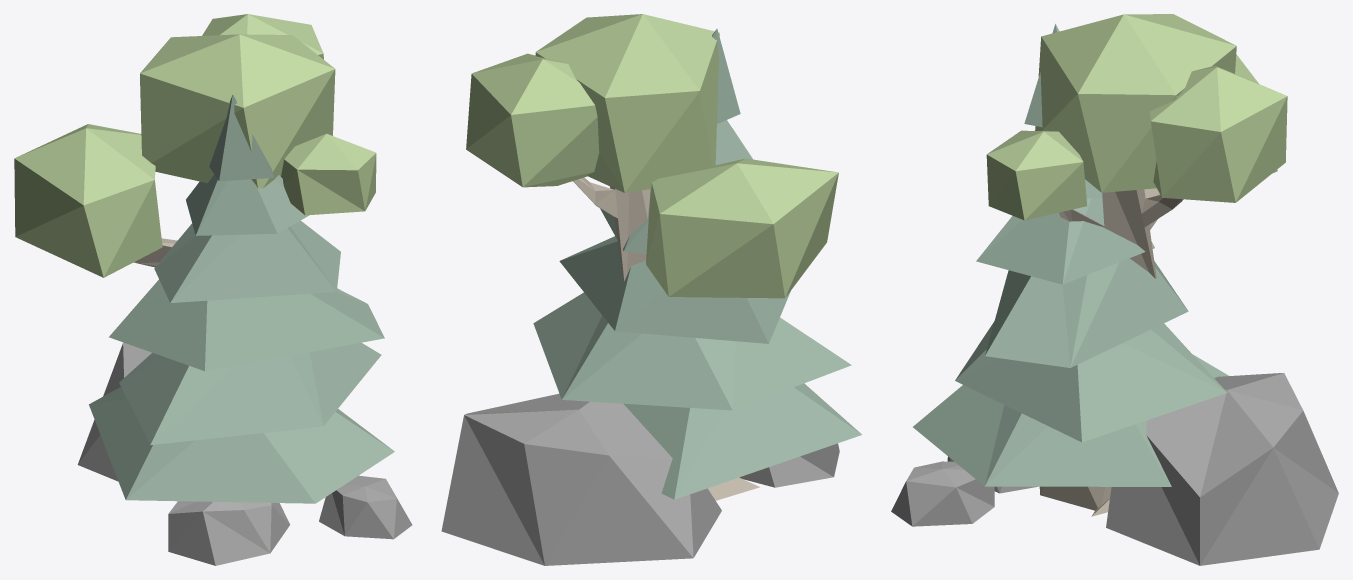
File: trees.dae
3 views of the same model, side by side, from view 1: azimuth 30°, elevation 25°; view 2: azimuth 150°, elevation 25°; view 3: azimuth 270°, elevation 25° (orthographic). The views are drawn at different scales.
Parts seen in each view (by area): view 1: Tree_1, Tree_2, Rocks; view 2: Tree_2, Tree_1, Rocks; view 3: Tree_1, Tree_2, Rocks.
Boxes of the visible parts, x1=… form: Tree_1: x1=89, y1=94, x2=394, y2=503; Tree_2: x1=14, y1=14, x2=376, y2=277; Rocks: x1=77, y1=342, x2=412, y2=565; Tree_2: x1=466, y1=14, x2=838, y2=500; Tree_1: x1=533, y1=28, x2=861, y2=499; Rocks: x1=441, y1=393, x2=839, y2=565; Tree_1: x1=913, y1=24, x2=1228, y2=510; Tree_2: x1=986, y1=14, x2=1287, y2=516; Rocks: x1=891, y1=373, x2=1338, y2=565.
Bounding box in the file's own units: 3.96 × 4.59 × 5.78.
